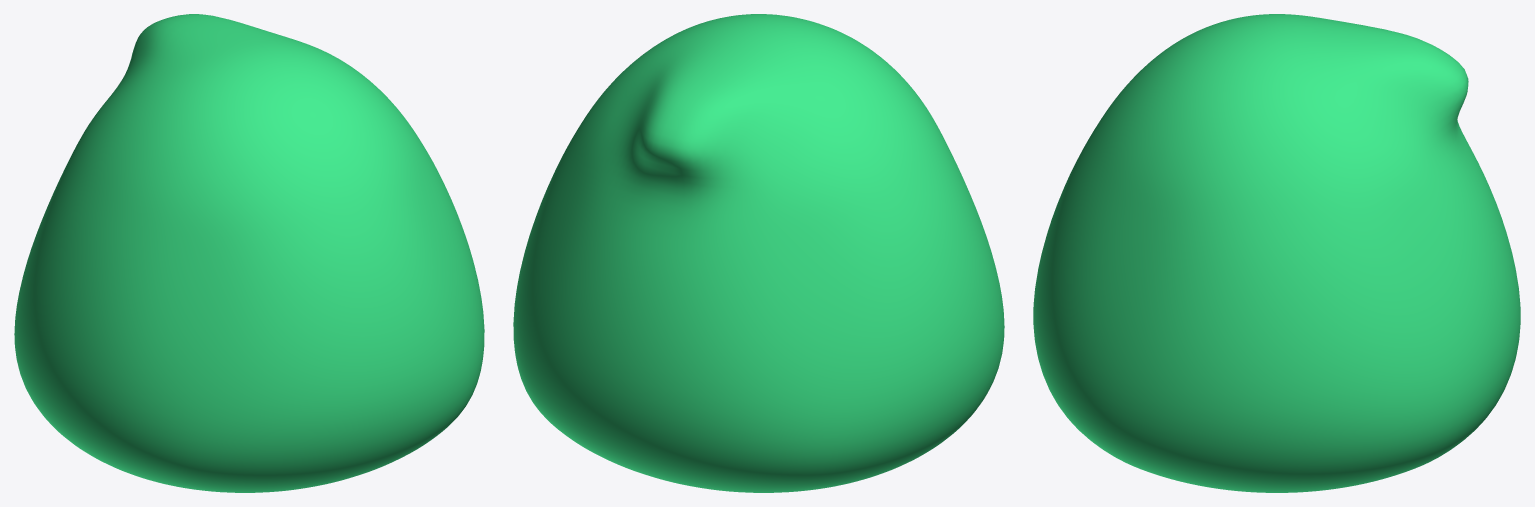
The model's file is SlimeNew.fbx.
3 views of the same model, side by side, from view 1: azimuth 30°, elevation 25°; view 2: azimuth 150°, elevation 25°; view 3: azimuth 270°, elevation 25° (orthographic). The views are drawn at different scales.
Parts seen in each view (by area): view 1: SlimeBody; view 2: SlimeBody; view 3: SlimeBody.
Boxes of the visible parts, bbox=[...] form: SlimeBody: bbox=[14, 14, 484, 492]; SlimeBody: bbox=[513, 14, 1004, 492]; SlimeBody: bbox=[1033, 14, 1520, 492].
Size of the model in its own units: 193 by 181 by 191.
